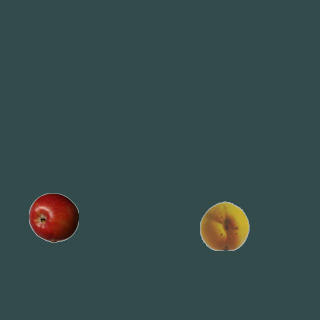Apple Braeburn: (28, 192, 78, 242)
Peach 2: (199, 200, 249, 250)
